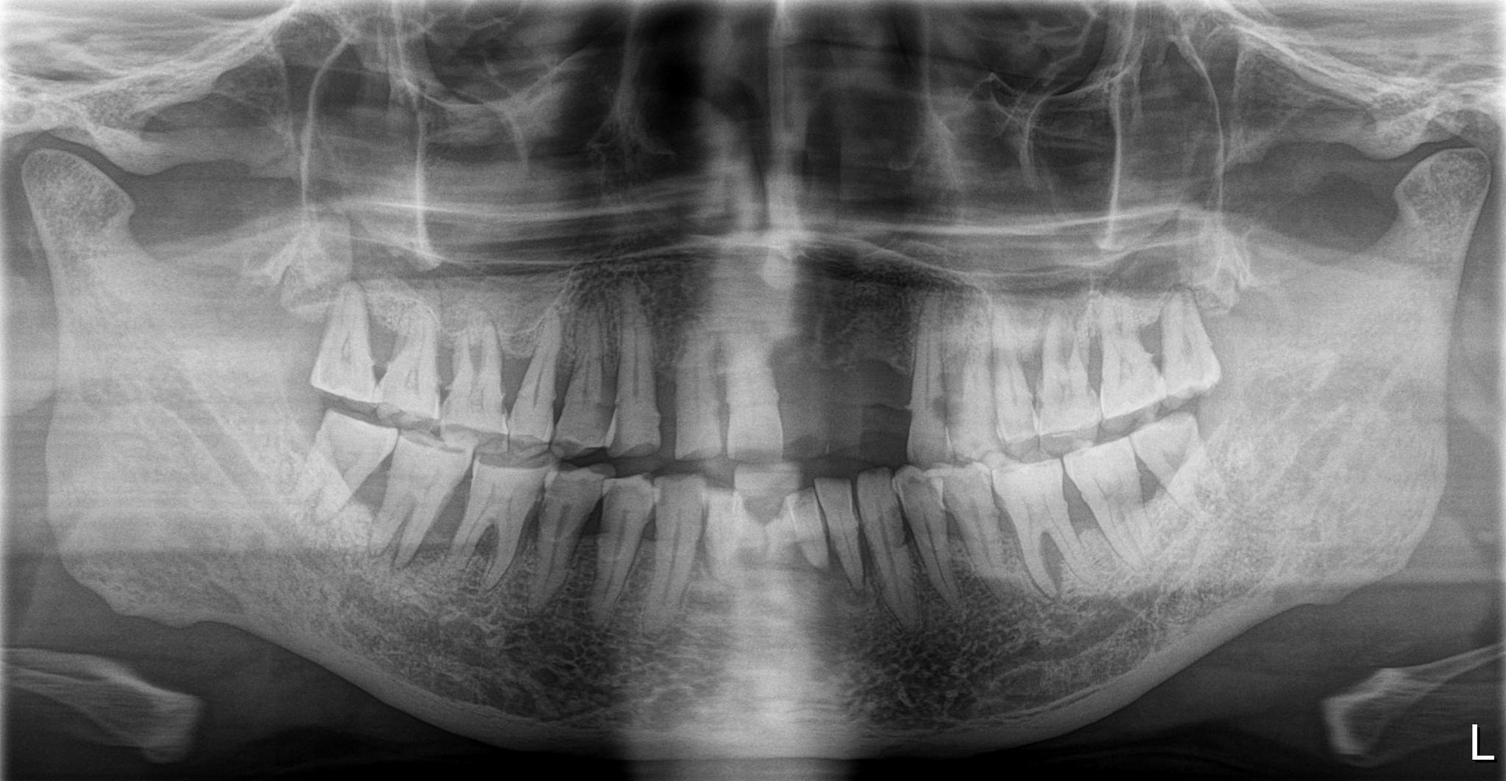Missing Tooth: (763, 318, 839, 445), (853, 305, 916, 443)
